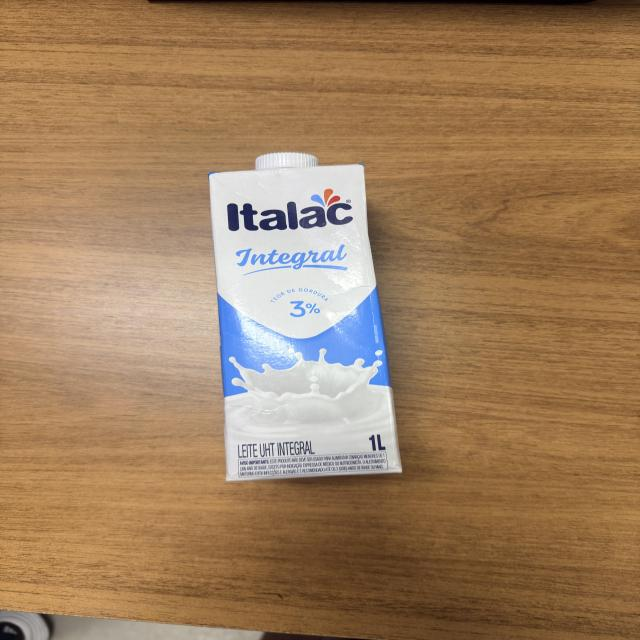Caixa de Leite: (212, 162, 407, 474)
